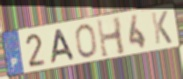2: (24, 33, 48, 69)
4: (128, 13, 148, 51)
A: (50, 27, 77, 66)
H: (95, 15, 128, 60)
K: (150, 9, 174, 46)
O: (74, 23, 99, 59)
